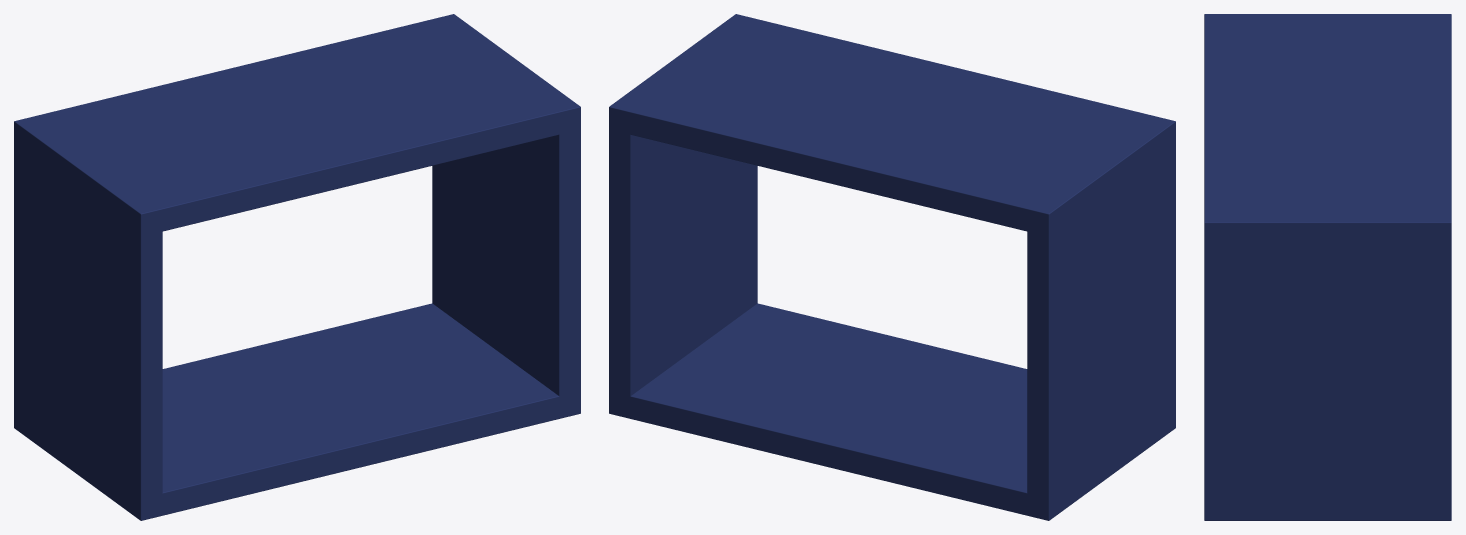
File: MODH_1X07_A_O_AF.glb
3 views of the same model, side by side, from view 1: azimuth 30°, elevation 25°; view 2: azimuth 150°, elevation 25°; view 3: azimuth 270°, elevation 25° (orthographic). The views are drawn at different scales.
Bounding box in the file's own units: 360 × 240 × 180.
